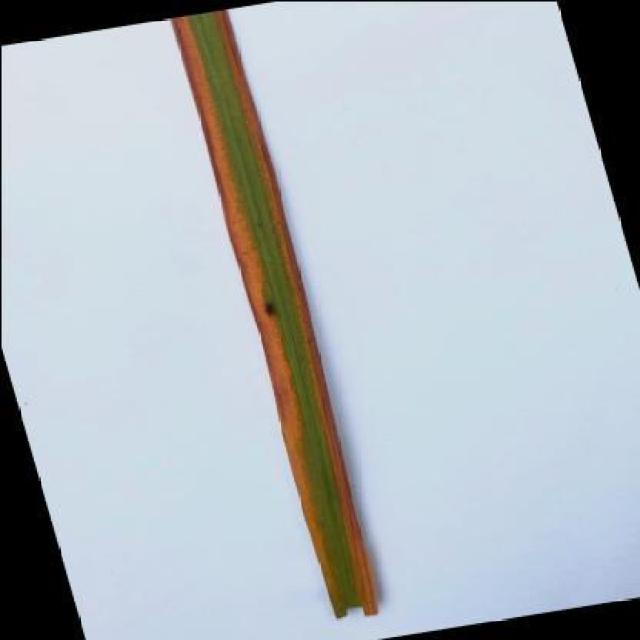Rice False Smut: (168, 9, 374, 618)
